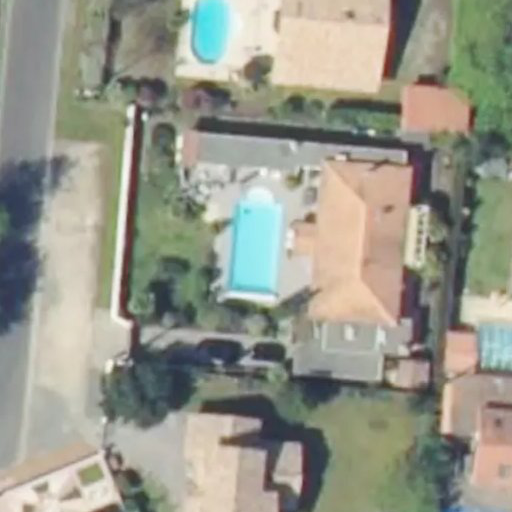pool: (228, 188, 283, 308), (192, 1, 230, 65), (479, 318, 512, 371)
